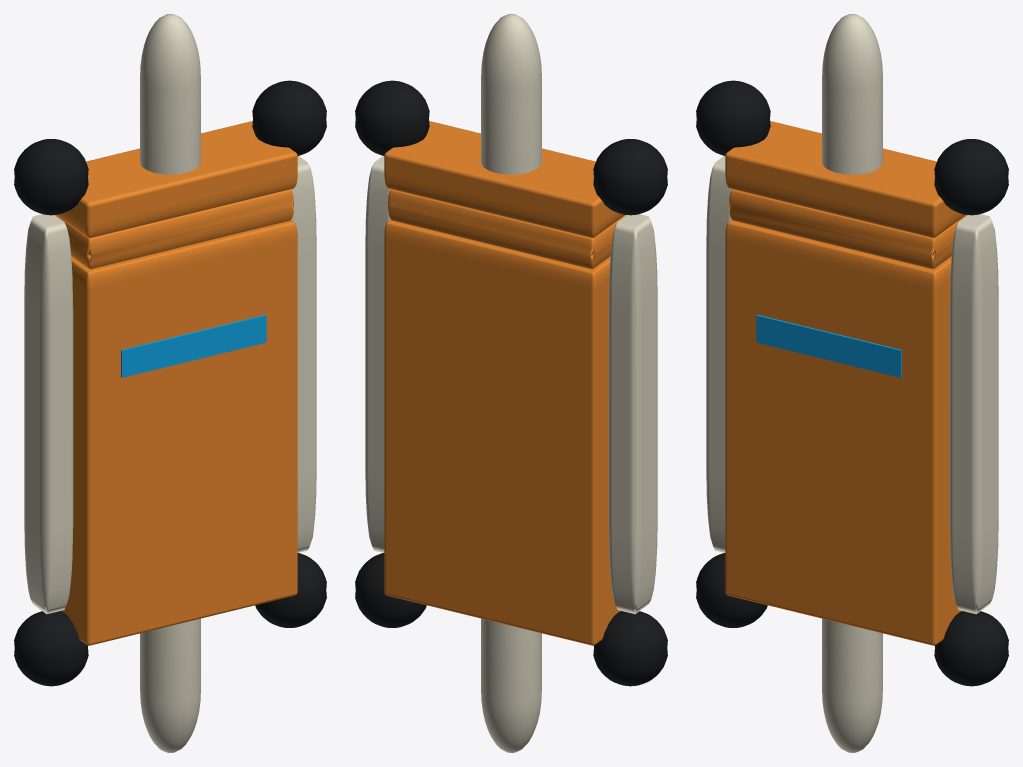
Rendered from sample-r05.glb.
The picture shows the model from 3 angles, left to right: view 1: azimuth 30°, elevation 25°; view 2: azimuth 150°, elevation 25°; view 3: azimuth 330°, elevation 25°; orthographic projection.
Visible parts, largest first — view 1: phone-shell, side-right, bumper-top, side-left, bumper-bottom, corner-tr, corner-tl, corner-br, corner-bl; view 2: phone-shell, side-right, bumper-top, side-left, bumper-bottom, corner-tr, corner-tl, corner-br, corner-bl; view 3: phone-shell, side-left, bumper-top, side-right, bumper-bottom, corner-tl, corner-tr, corner-bl, corner-br.
Part boxes in pixels (x1=…): phone-shell: x1=55, y1=121, x2=297, y2=645; side-right: x1=24, y1=214, x2=73, y2=614; bumper-top: x1=140, y1=14, x2=200, y2=174; side-left: x1=291, y1=156, x2=316, y2=552; bumper-bottom: x1=140, y1=618, x2=200, y2=752; corner-tr: x1=14, y1=139, x2=88, y2=215; corner-tl: x1=252, y1=80, x2=326, y2=155; corner-br: x1=14, y1=611, x2=88, y2=686; corner-bl: x1=255, y1=553, x2=326, y2=627; phone-shell: x1=384, y1=121, x2=626, y2=645; side-right: x1=608, y1=214, x2=657, y2=614; bumper-top: x1=481, y1=14, x2=541, y2=174; side-left: x1=365, y1=156, x2=390, y2=552; bumper-bottom: x1=481, y1=618, x2=541, y2=752; corner-tr: x1=593, y1=139, x2=667, y2=215; corner-tl: x1=355, y1=80, x2=429, y2=155; corner-br: x1=593, y1=611, x2=667, y2=686; corner-bl: x1=355, y1=553, x2=426, y2=627; phone-shell: x1=725, y1=121, x2=967, y2=645; side-left: x1=949, y1=214, x2=998, y2=614; bumper-top: x1=822, y1=14, x2=882, y2=174; side-right: x1=706, y1=156, x2=731, y2=552; bumper-bottom: x1=822, y1=618, x2=882, y2=752; corner-tl: x1=934, y1=139, x2=1008, y2=215; corner-tr: x1=696, y1=80, x2=770, y2=155; corner-bl: x1=934, y1=611, x2=1008, y2=686; corner-br: x1=696, y1=553, x2=767, y2=627.
Bounding box in the file's own units: 0.1144 × 0.266 × 0.0307.
